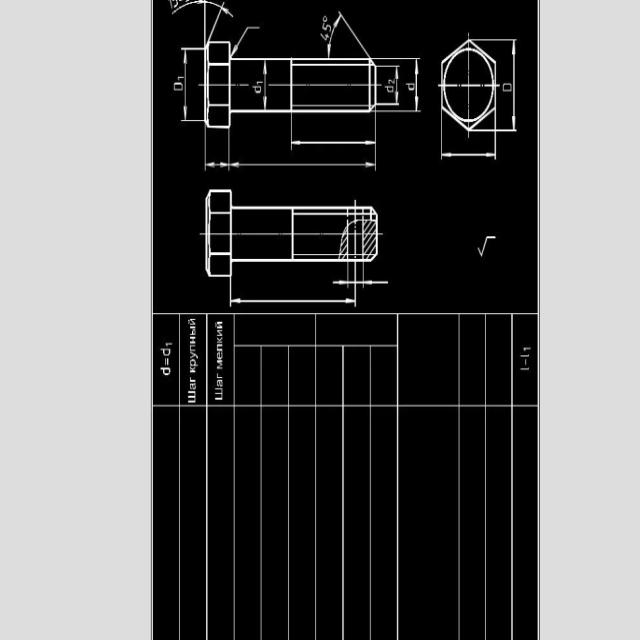marking_line: (227, 132, 378, 171), (228, 278, 357, 309), (290, 116, 379, 151), (376, 57, 421, 115), (172, 0, 233, 41), (325, 11, 372, 59), (498, 38, 518, 133), (180, 47, 204, 124), (439, 132, 497, 162), (331, 265, 389, 289), (204, 130, 232, 171), (377, 65, 402, 106), (232, 25, 262, 57), (262, 61, 268, 111)
numeric: (523, 345, 533, 354), (322, 23, 331, 32), (319, 33, 329, 41), (387, 78, 396, 84), (165, 341, 174, 346)
special_symbol: (477, 233, 497, 259)
